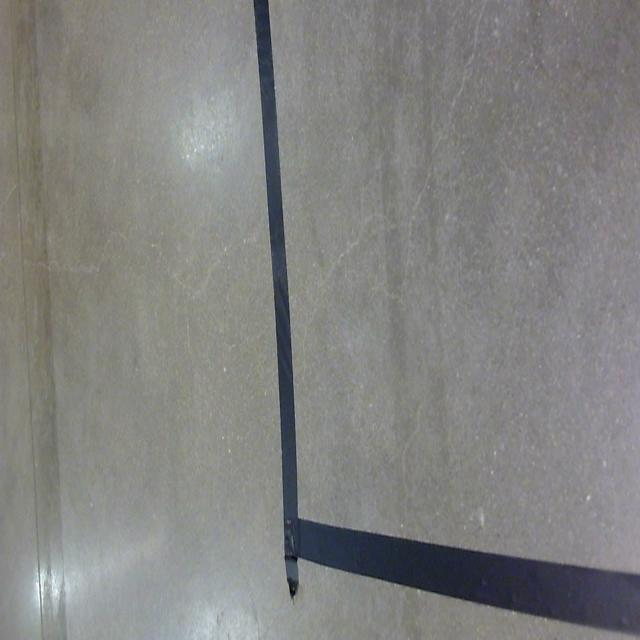tape: (230, 0, 640, 640)
